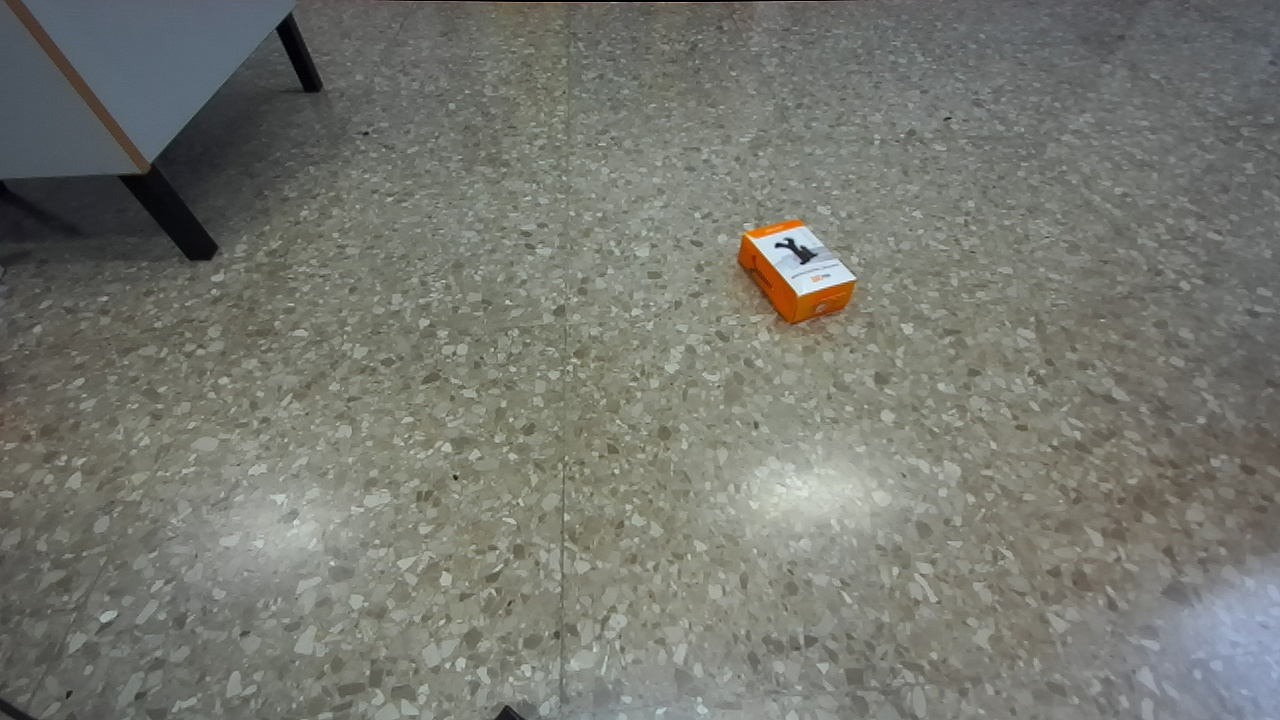caja_pcb: (739, 220, 856, 323)
